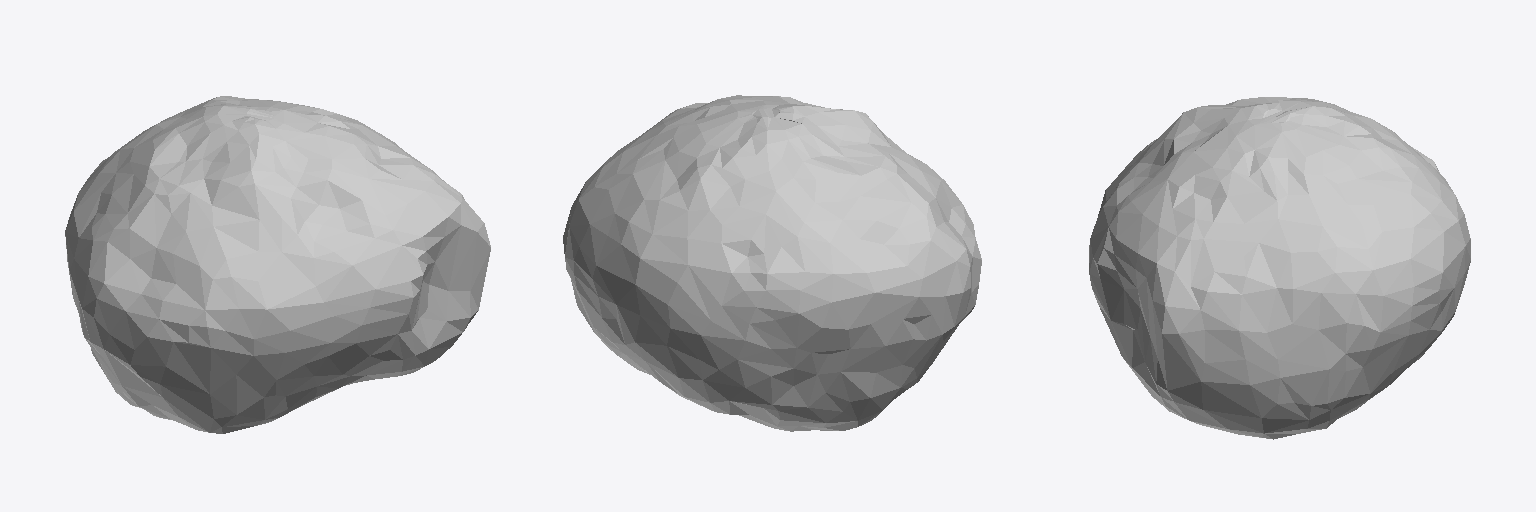
The model's file is phobos.obj.
The picture shows the model from 3 angles: view 1: azimuth 30°, elevation 25°; view 2: azimuth 150°, elevation 25°; view 3: azimuth 270°, elevation 25°; orthographic projection.
Parts seen in each view (by area): view 1: Part_; view 2: Part_; view 3: Part_.
Part boxes in pixels (bbox=[...]): Part_: bbox=[65, 96, 490, 433]; Part_: bbox=[563, 95, 981, 431]; Part_: bbox=[1089, 97, 1470, 439].
Size of the model in its own units: 260 by 194 by 233.